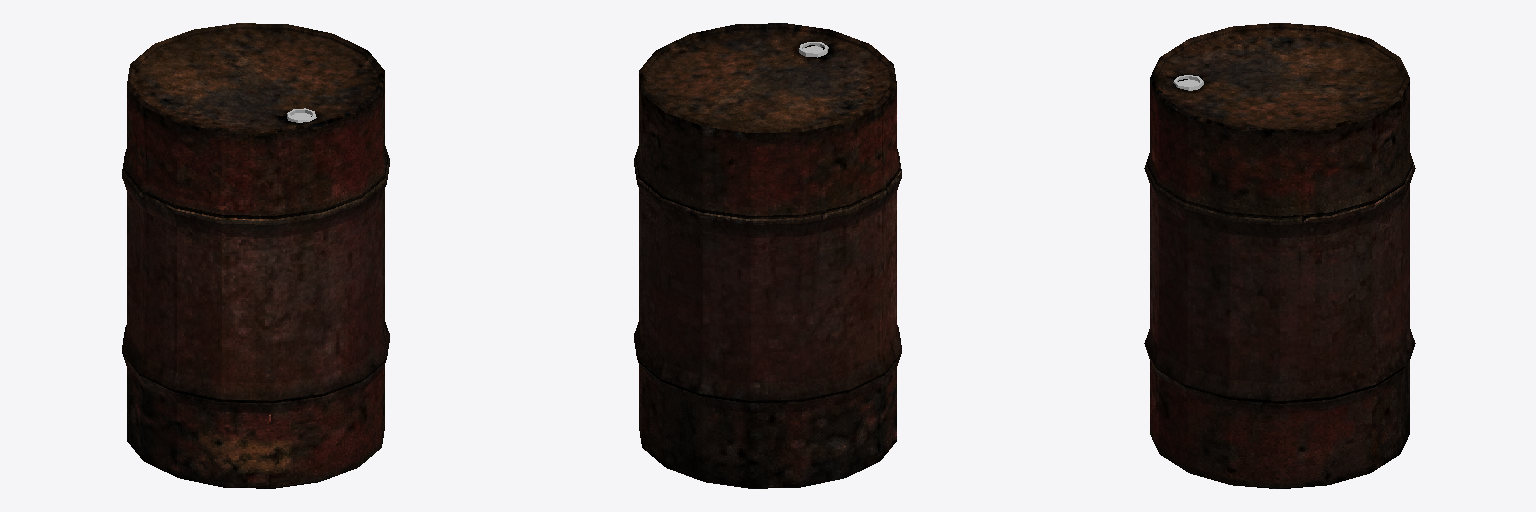
3 views of the same model, side by side, from view 1: azimuth 30°, elevation 25°; view 2: azimuth 150°, elevation 25°; view 3: azimuth 270°, elevation 25° (orthographic).
Parts seen in each view (by area): view 1: metal_barrel_1; view 2: metal_barrel_1; view 3: metal_barrel_1.
Part boxes in pixels (bbox=[...]): metal_barrel_1: bbox=[122, 23, 389, 488]; metal_barrel_1: bbox=[634, 23, 901, 488]; metal_barrel_1: bbox=[1144, 23, 1415, 488].
Size of the model in its own units: 0.7488 by 1.09 by 0.7488.
Materials: 2 (1 with a texture image).